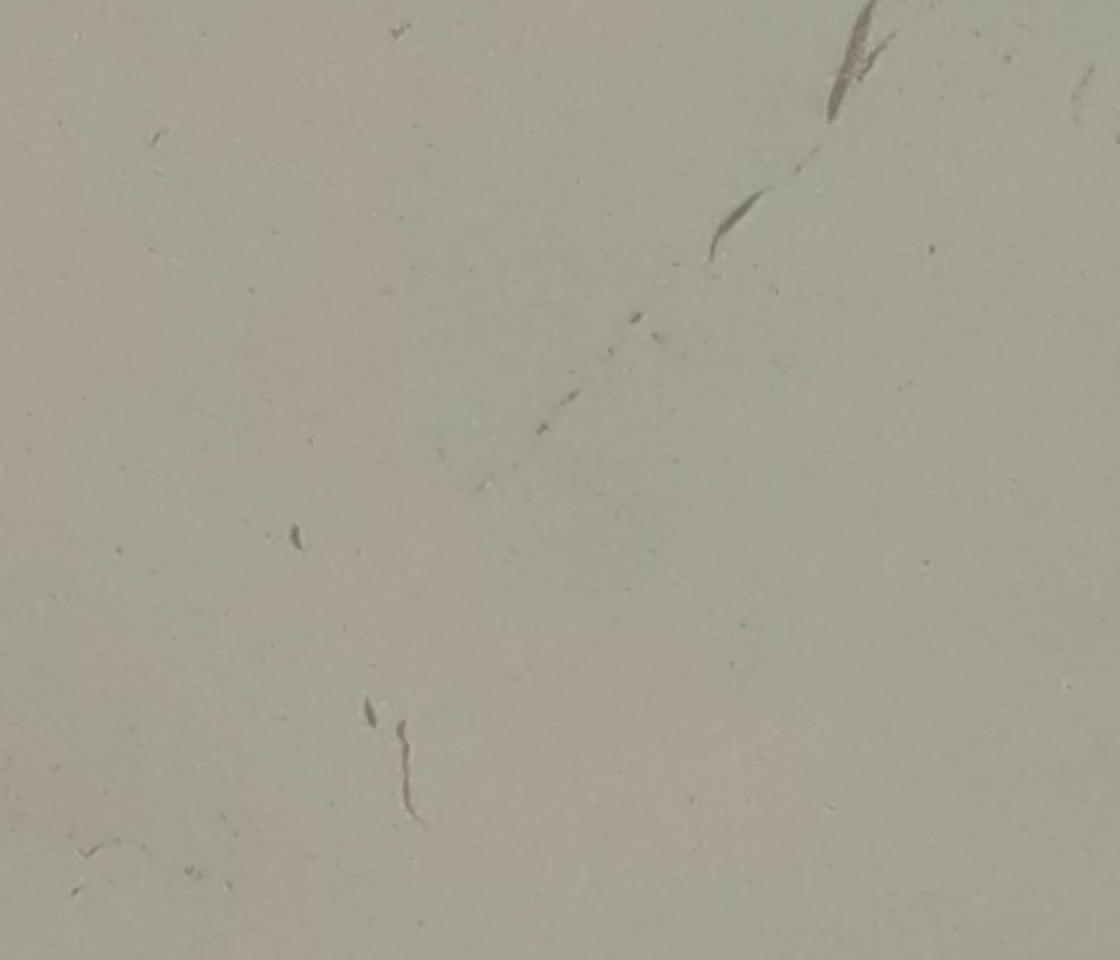scratch: (693, 187, 773, 267), (391, 718, 428, 830), (355, 693, 379, 737)
